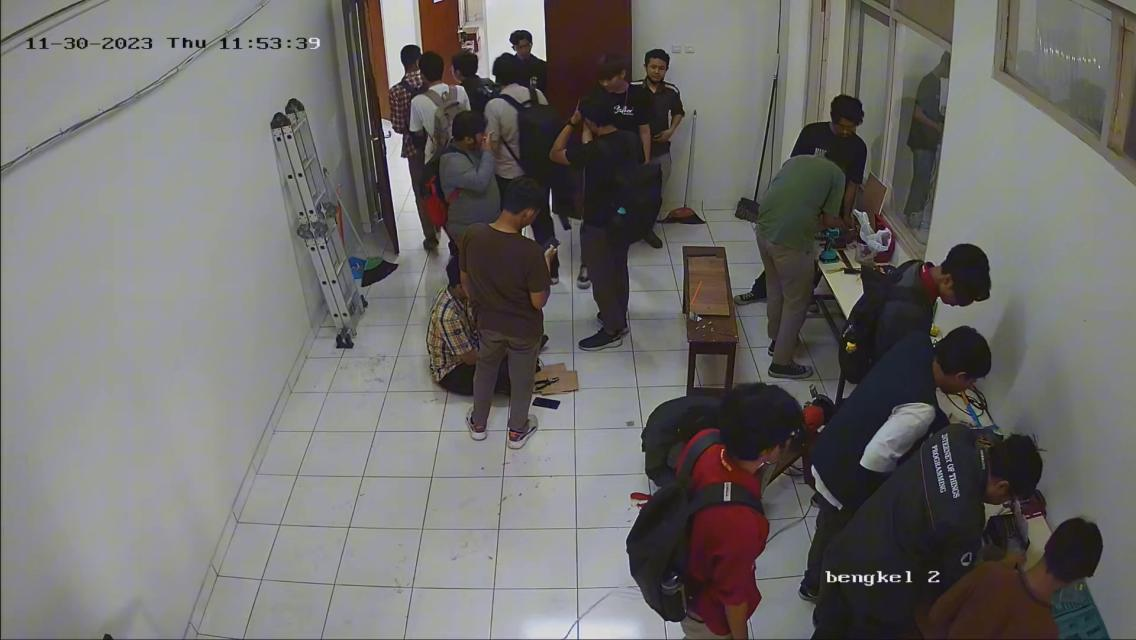Crowd: (373, 19, 708, 463)
